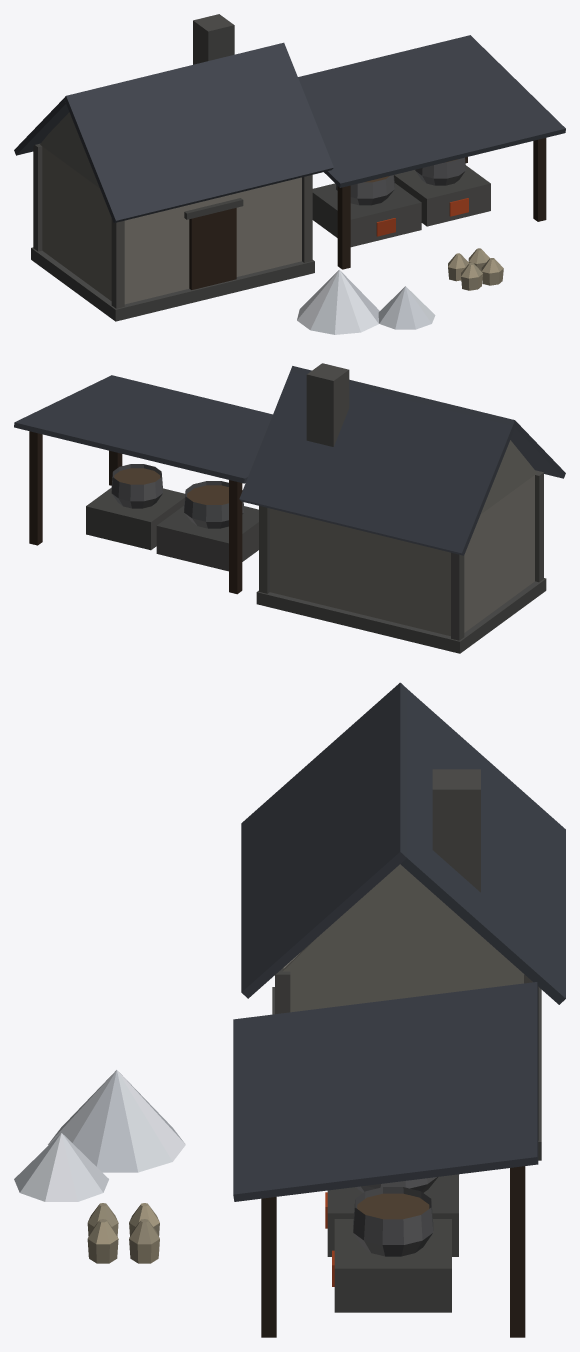
Rendered from walk_freehold_saltworks.glb.
The picture shows the model from 3 angles, top to bottom: view 1: azimuth 30°, elevation 25°; view 2: azimuth 150°, elevation 25°; view 3: azimuth 270°, elevation 25°; orthographic projection. The views are drawn at different scales.
Parts seen in each view (by area): view 1: walk_freehold_saltworks_roof, walk_freehold_saltworks; view 2: walk_freehold_saltworks_roof, walk_freehold_saltworks; view 3: walk_freehold_saltworks_roof, walk_freehold_saltworks.
Part boxes in pixels (bbox=[...]): walk_freehold_saltworks_roof: bbox=[14, 14, 565, 222]; walk_freehold_saltworks: bbox=[31, 112, 546, 334]; walk_freehold_saltworks_roof: bbox=[14, 363, 565, 555]; walk_freehold_saltworks: bbox=[29, 431, 546, 653]; walk_freehold_saltworks_roof: bbox=[233, 682, 565, 1201]; walk_freehold_saltworks: bbox=[14, 864, 541, 1337].
Size of what is drawn, in the model's own units: 11.9 by 5.6 by 7.99.
2 materials, 2 textured.
